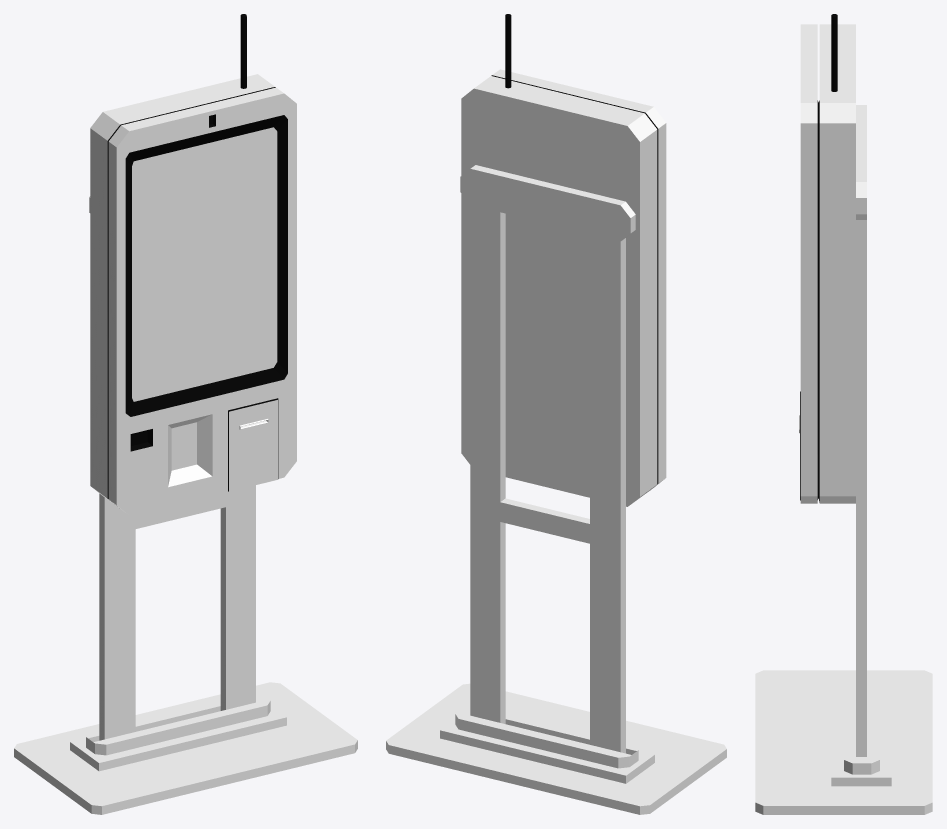
Rendered from kt_order_kiosk.fbx.
The picture shows the model from 3 angles, left to right: view 1: azimuth 30°, elevation 25°; view 2: azimuth 150°, elevation 25°; view 3: azimuth 270°, elevation 25°; orthographic projection. The views are drawn at different scales.
Visible parts, largest first — view 1: kt_order_kiosk_LOD0; view 2: kt_order_kiosk_LOD0; view 3: kt_order_kiosk_LOD0.
Boxes of the visible parts, x1,y1,x2,y2 form: kt_order_kiosk_LOD0: (14,14,357,814); kt_order_kiosk_LOD0: (386,14,726,814); kt_order_kiosk_LOD0: (755,14,932,814).
Size of what is drawn, in the model's own units: 0.7075 by 1.85 by 0.3909.
Materials: 1 (1 with a texture image).
